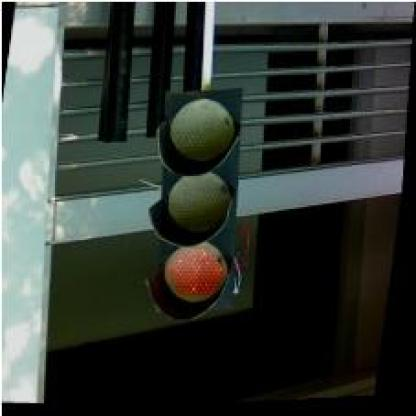red: (137, 86, 263, 321)
